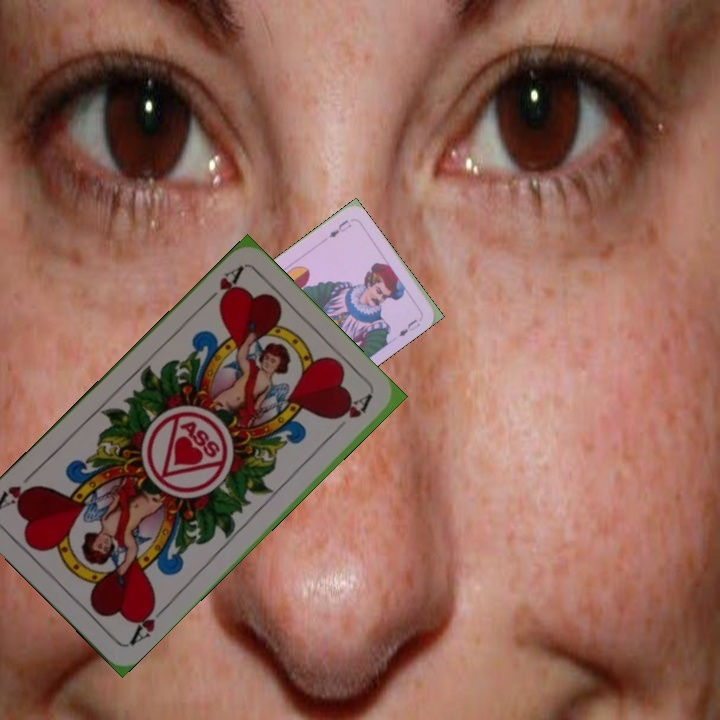EU: (325, 215, 354, 240)
HA: (125, 597, 170, 649), (198, 262, 246, 310)
